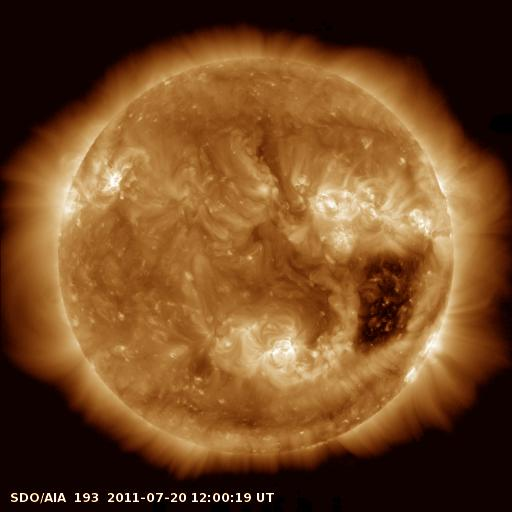coronal_hole: (346, 245, 429, 357)
